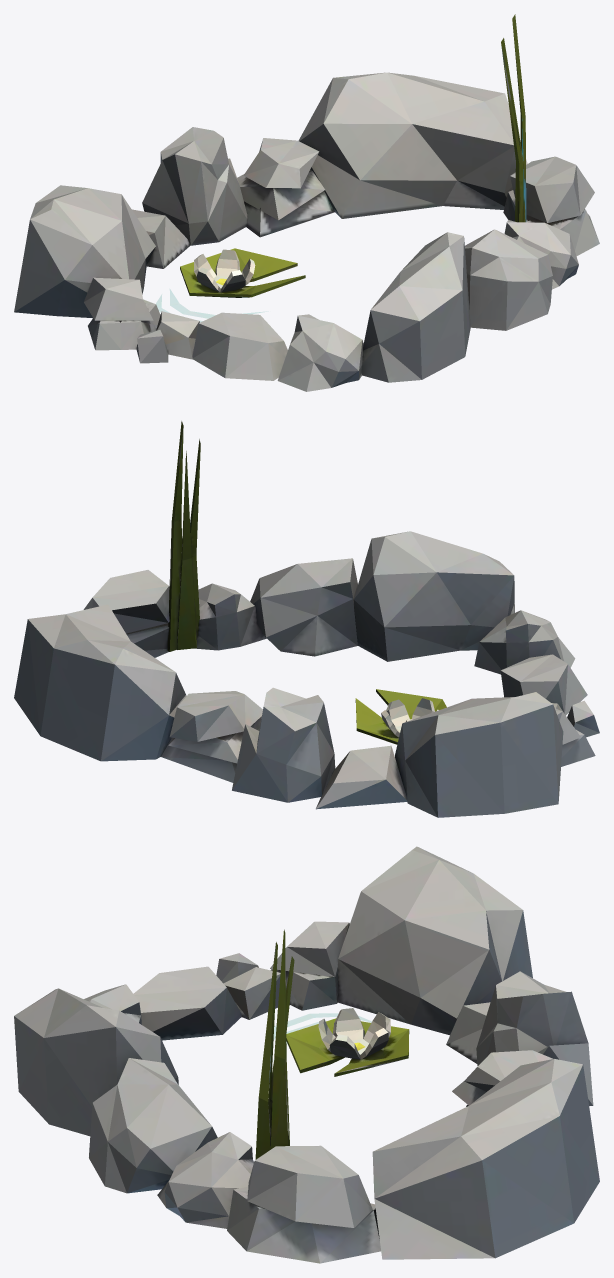
The model's file is pond.glb.
The picture shows the model from 3 angles, top to bottom: view 1: azimuth 30°, elevation 25°; view 2: azimuth 150°, elevation 25°; view 3: azimuth 270°, elevation 25°; orthographic projection. The views are drawn at different scales.
Parts seen in each view (by area): view 1: pond; view 2: pond; view 3: pond.
Boxes of the visible parts, x1=… form: pond: x1=14, y1=14, x2=599, y2=391; pond: x1=14, y1=421, x2=599, y2=817; pond: x1=14, y1=846, x2=599, y2=1263.
Bounding box in the file's own units: 2.19 × 0.9291 × 1.75.
Materials: 1 (1 with a texture image).
